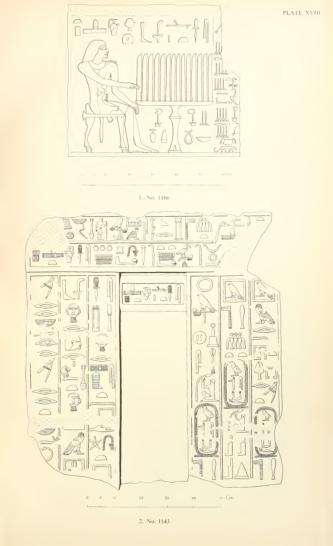circle: (193, 403, 221, 459), (223, 358, 250, 411), (252, 406, 279, 458)
